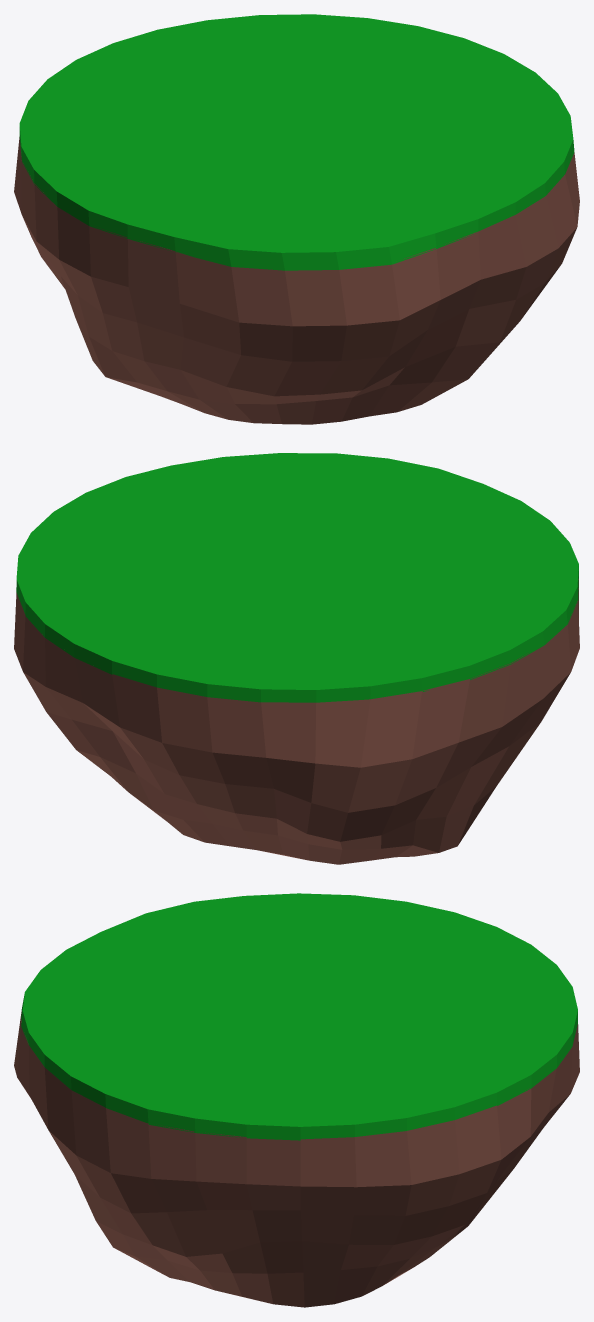
Rendered from island_base.glb.
3 views of the same model, one above another, from view 1: azimuth 30°, elevation 25°; view 2: azimuth 150°, elevation 25°; view 3: azimuth 270°, elevation 25° (orthographic).
Visible parts, largest first — view 1: island; view 2: island; view 3: island.
Part boxes in pixels (x1,y1,x2,y2): island: (14, 14, 579, 424); island: (14, 453, 579, 864); island: (14, 893, 579, 1307).
Bounding box in the file's own units: 20.22 × 9.55 × 20.6.
